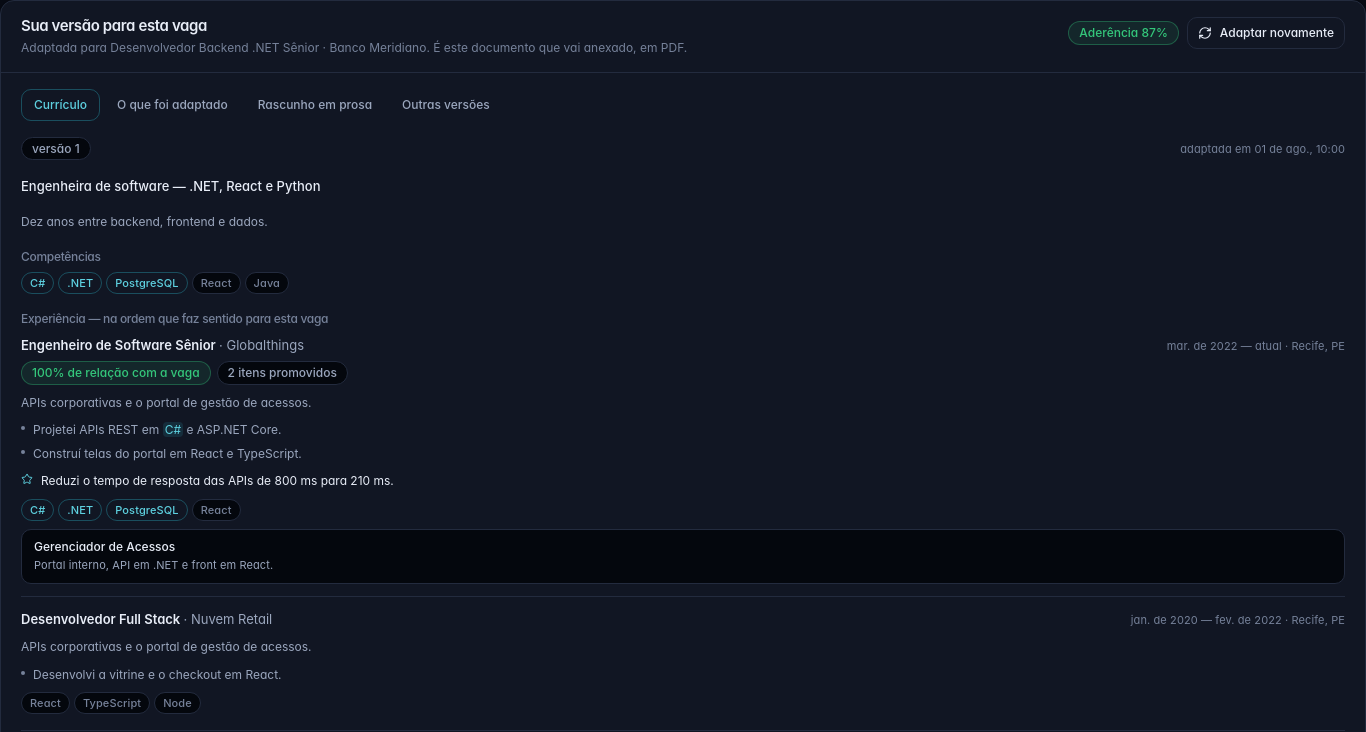
ApplicationResumePanel change report › keeps the sections when there is no comparison to stand in for them
The image size is (1366, 732).
Expected: the text "versão 1" is shown, [21,137,91,160]
Click the tab "O que foi adaptado" at (172, 105), box [104,89,241,121]
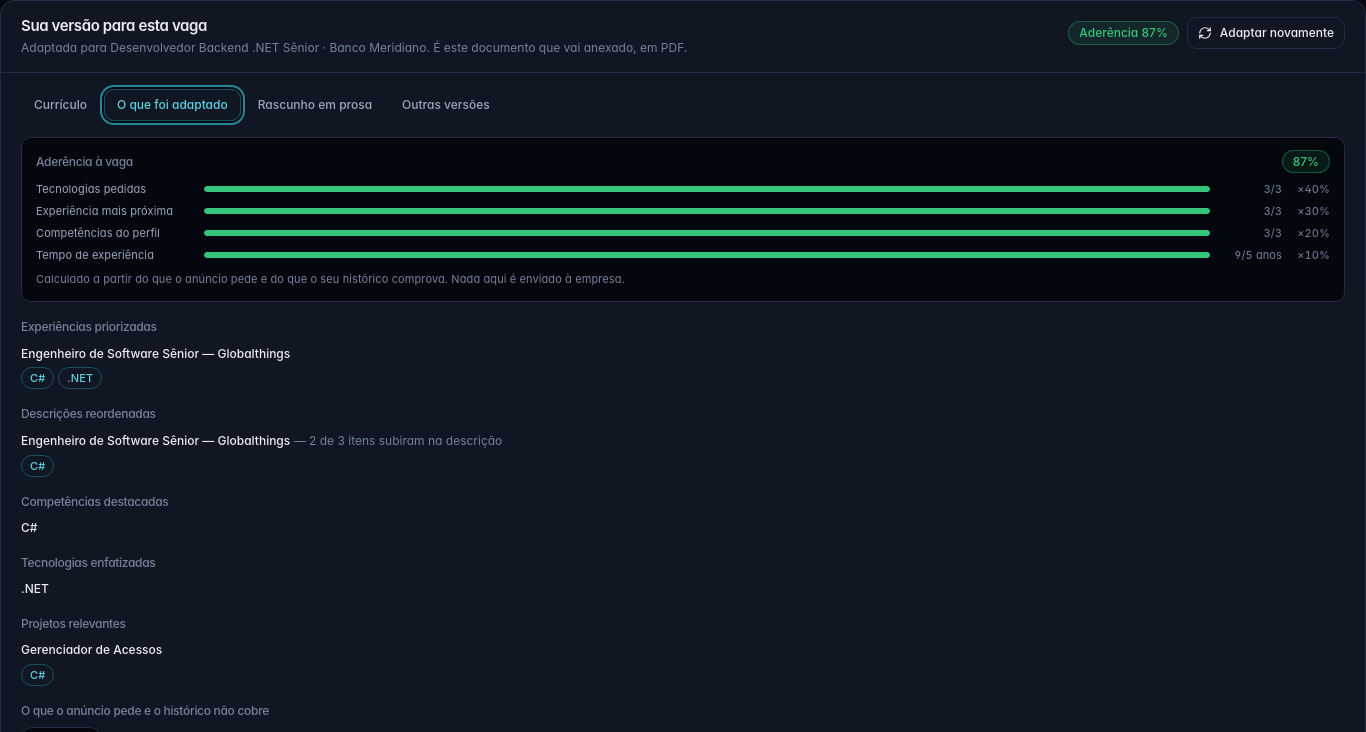
Expected: the heading "Experiências priorizadas" is shown, [21,319,157,334]
Expected: the heading "Tecnologias enfatizadas" is shown, [21,555,156,570]
